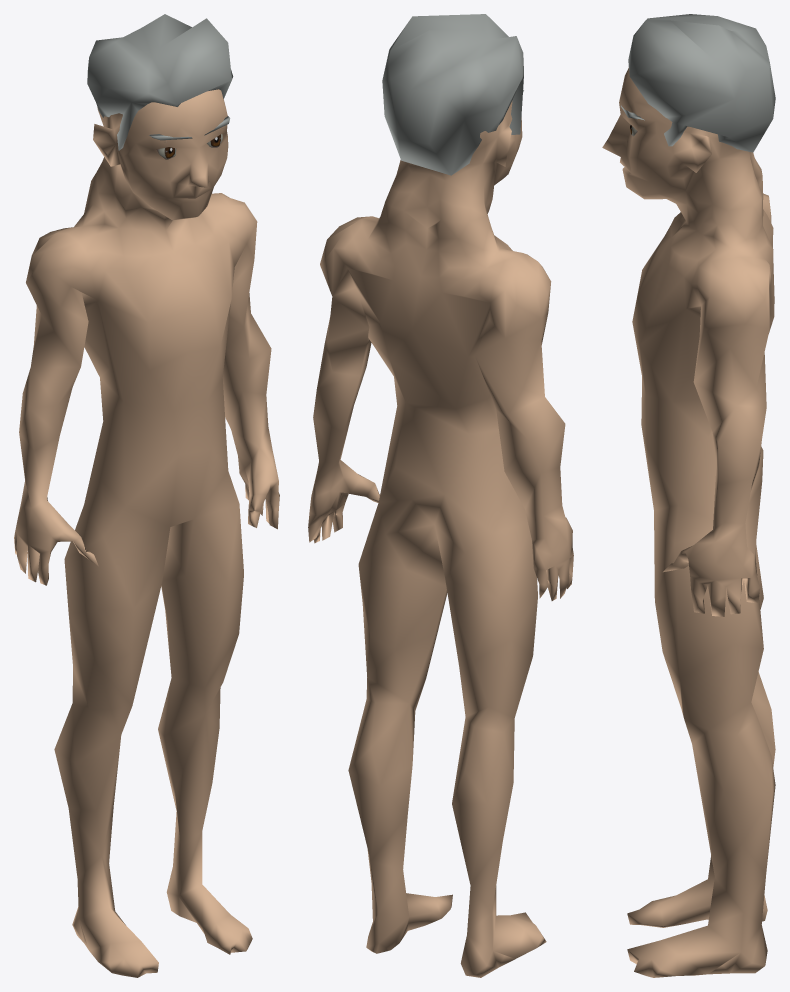
Rendered from npc_bath_standing.glb.
3 views of the same model, side by side, from view 1: azimuth 30°, elevation 25°; view 2: azimuth 150°, elevation 25°; view 3: azimuth 270°, elevation 25° (orthographic).
Parts seen in each view (by area): view 1: npc_bath_standing; view 2: npc_bath_standing; view 3: npc_bath_standing.
Boxes of the visible parts, box(x1,y1,x2,y2) form: npc_bath_standing: box(14, 14, 279, 977); npc_bath_standing: box(308, 14, 573, 977); npc_bath_standing: box(602, 14, 775, 977).
Bounding box in the file's own units: 0.4512 × 1.6 × 0.2708.
1 material, 1 textured.
